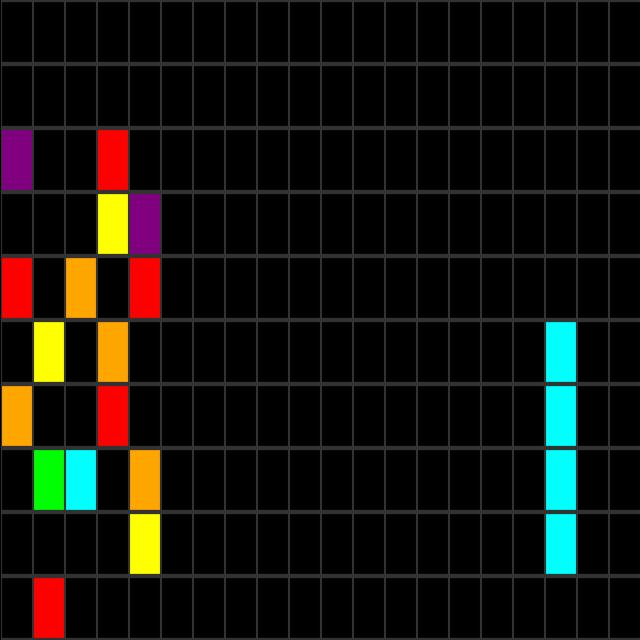Tetrimino_Z: (544, 322, 574, 576)
